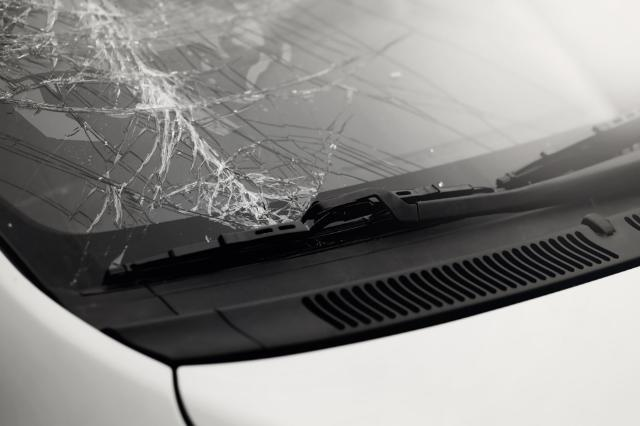Windshield: (0, 0, 640, 245)
